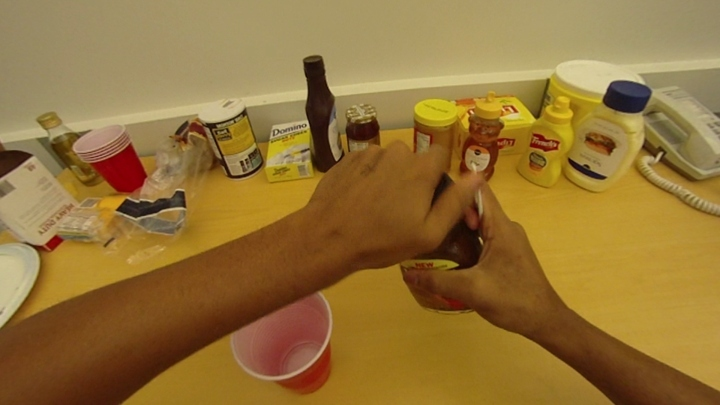hand: (398, 171, 552, 332), (309, 140, 480, 262)
